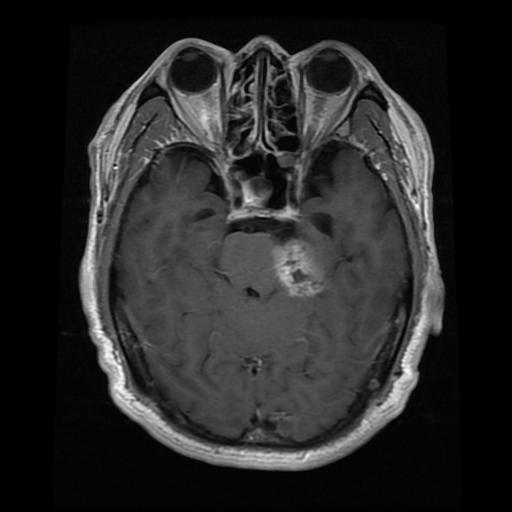Menigiomia_tumour: (273, 239, 325, 294)
